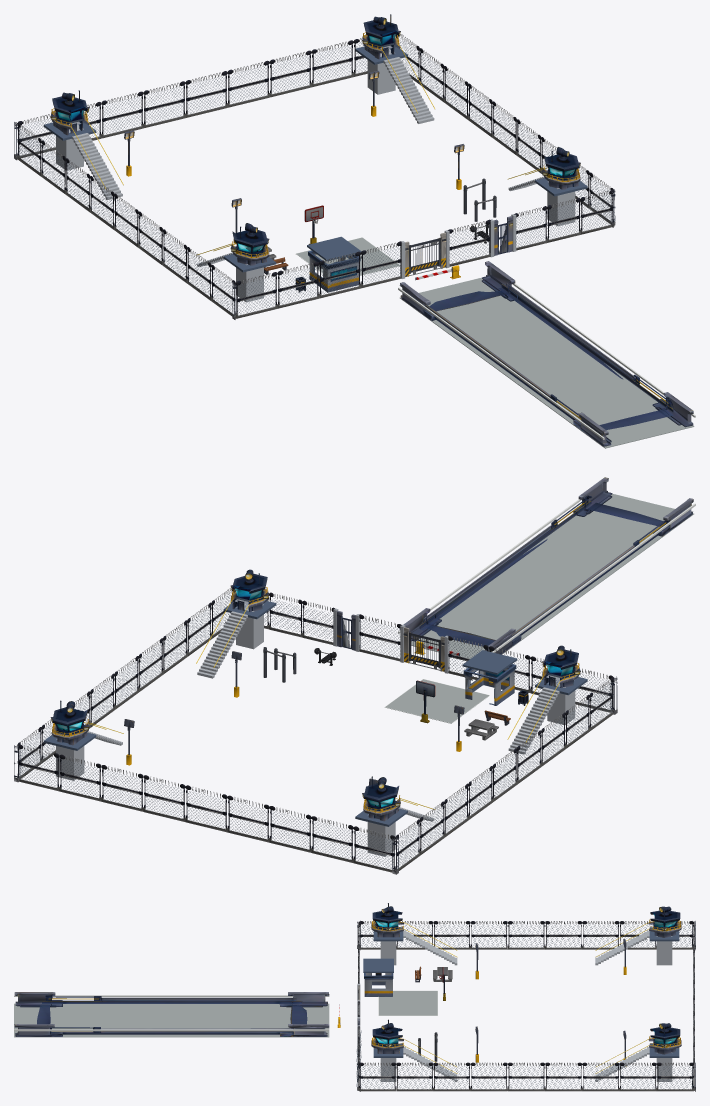
File: jail-meshy-grounds.glb
The picture shows the model from 3 angles, top to bottom: view 1: azimuth 30°, elevation 25°; view 2: azimuth 150°, elevation 25°; view 3: azimuth 270°, elevation 25°; orthographic projection. The views are drawn at different scales.
Visible parts, largest first — view 1: jail-static-meshy-assembly, meshy-vehicle-gate; view 2: jail-static-meshy-assembly, meshy-vehicle-gate, meshy-pedestrian-gate; view 3: jail-static-meshy-assembly.
Part boxes in pixels (x1,y1,x2,y2): jail-static-meshy-assembly: (14, 14, 695, 448); meshy-vehicle-gate: (405, 232, 446, 276); jail-static-meshy-assembly: (14, 477, 695, 874); meshy-vehicle-gate: (403, 627, 444, 671); meshy-pedestrian-gate: (337, 611, 355, 650); jail-static-meshy-assembly: (14, 903, 695, 1091).
Size of the model in its own units: 34.4 by 6.25 by 69.2.
Materials: 21 (15 with a texture image).
